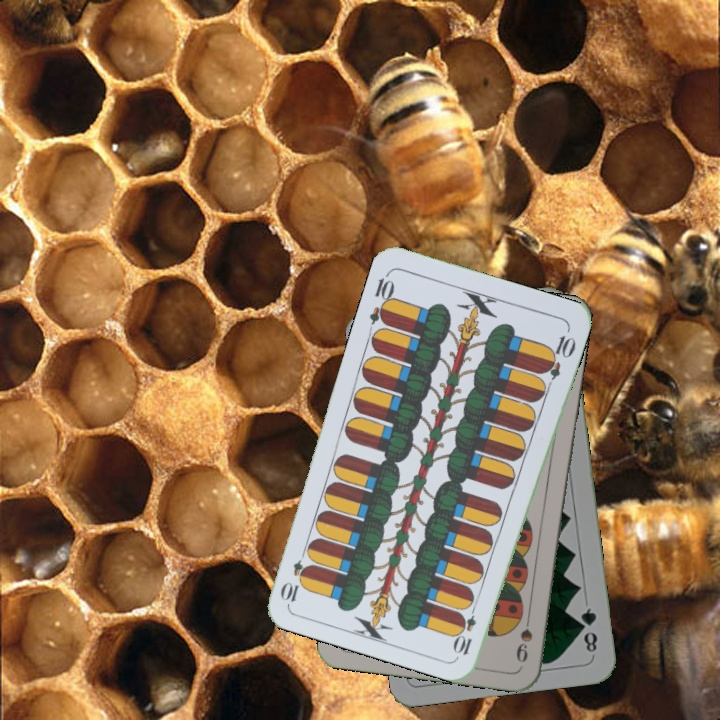E10: (365, 268, 397, 328), (452, 599, 479, 658)
G8: (576, 604, 600, 655)
S9: (512, 607, 535, 665)
